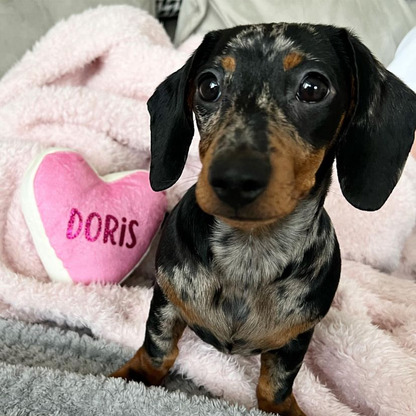dachshund: (118, 25, 392, 402)
